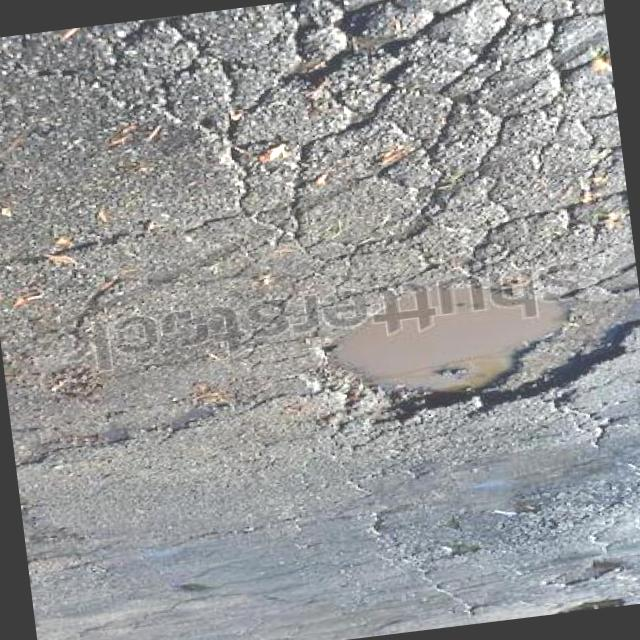pothole: (290, 259, 640, 445), (536, 558, 630, 592), (552, 594, 636, 614)
